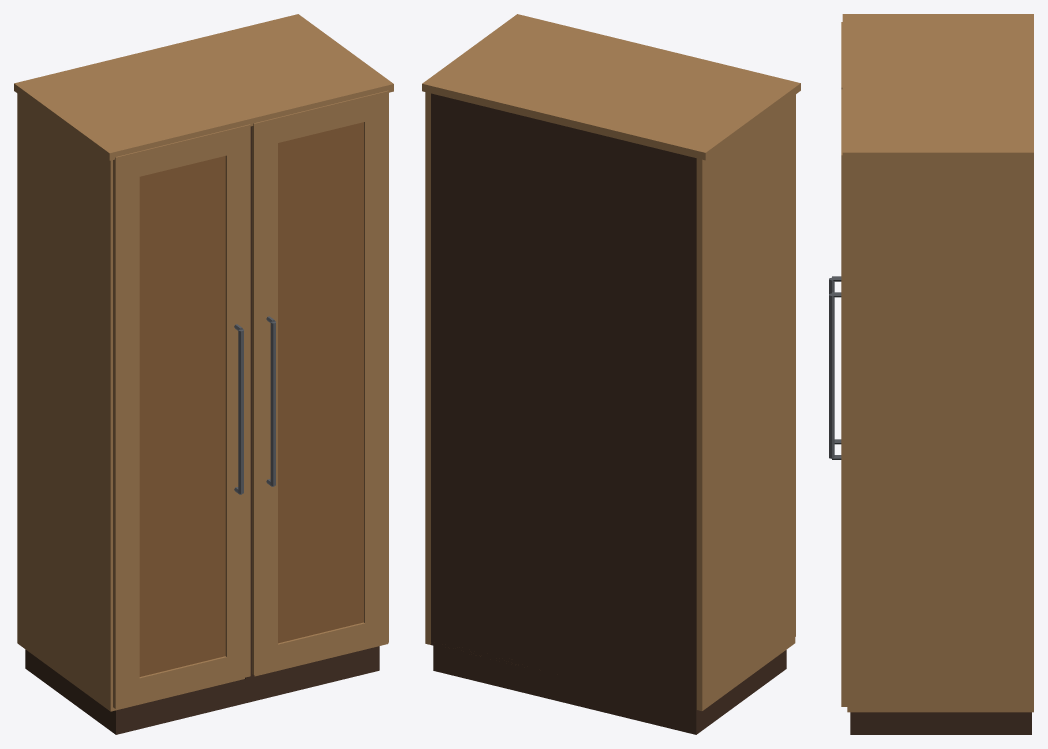
Rendered from FN_Wardrobe_Double.glb.
The picture shows the model from 3 angles, left to right: view 1: azimuth 30°, elevation 25°; view 2: azimuth 150°, elevation 25°; view 3: azimuth 270°, elevation 25°; orthographic projection.
Parts seen in each view (by area): view 1: FN_Wardrobe_Double; view 2: FN_Wardrobe_Double; view 3: FN_Wardrobe_Double.
Boxes of the visible parts, x1,y1,x2,y2 form: FN_Wardrobe_Double: (14,14,393,734); FN_Wardrobe_Double: (422,14,800,734); FN_Wardrobe_Double: (829,14,1033,734).
Size of the model in its own units: 1.02 by 2.02 by 0.6387.
Materials: 1 (1 with a texture image).
